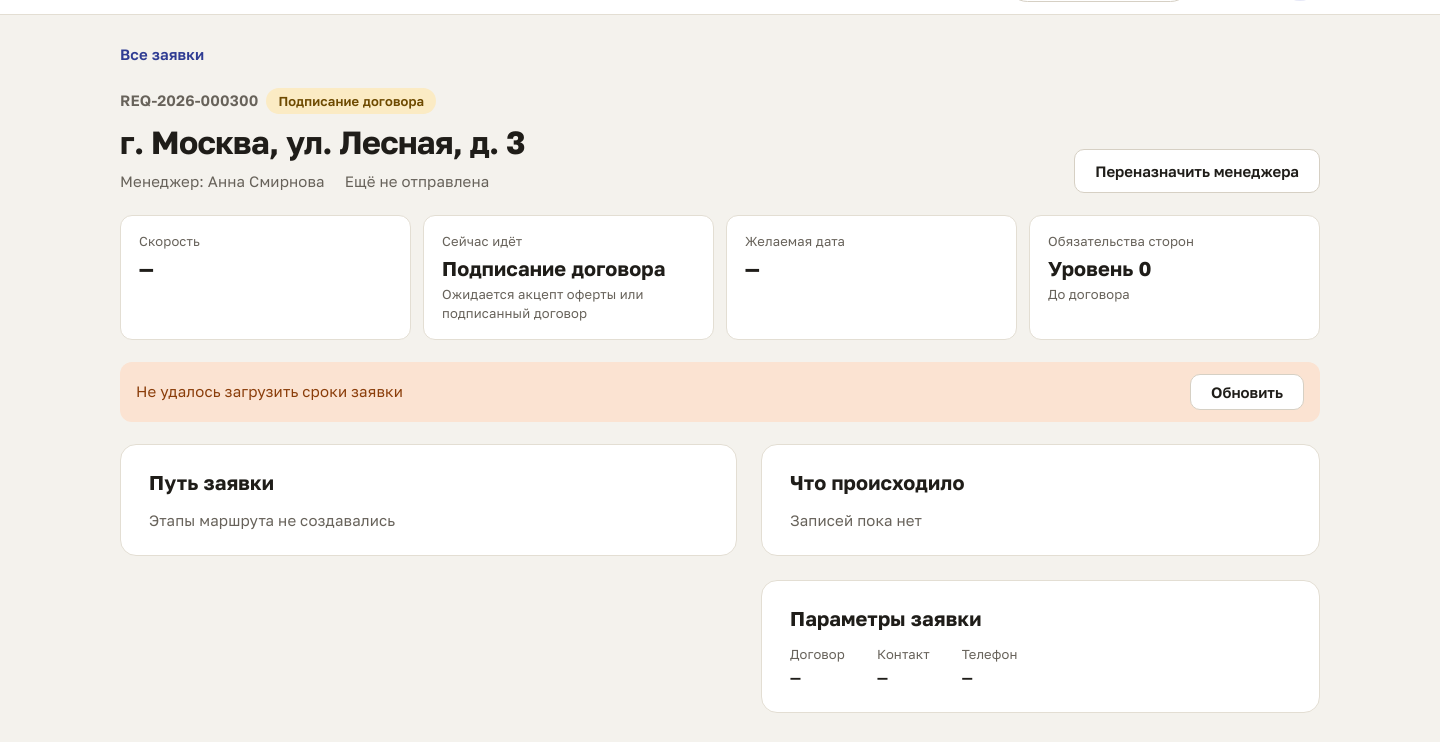
it: Блок «Сроки» в карточке › при сбое показывает понятный текст и кнопку «Обновить», карточка остаётся
Expected: the message with test id "request-card-sla-error" shows "Не удалось загрузить сроки заявки", [136,382,403,400]
Expected: the heading "г. Москва, ул. Лесная, д. 3" is shown, [120,124,525,160]
Click the button "Обновить" at {"x": 1247, "y": 392}, box [1190,374,1304,410]
(page scrolled)
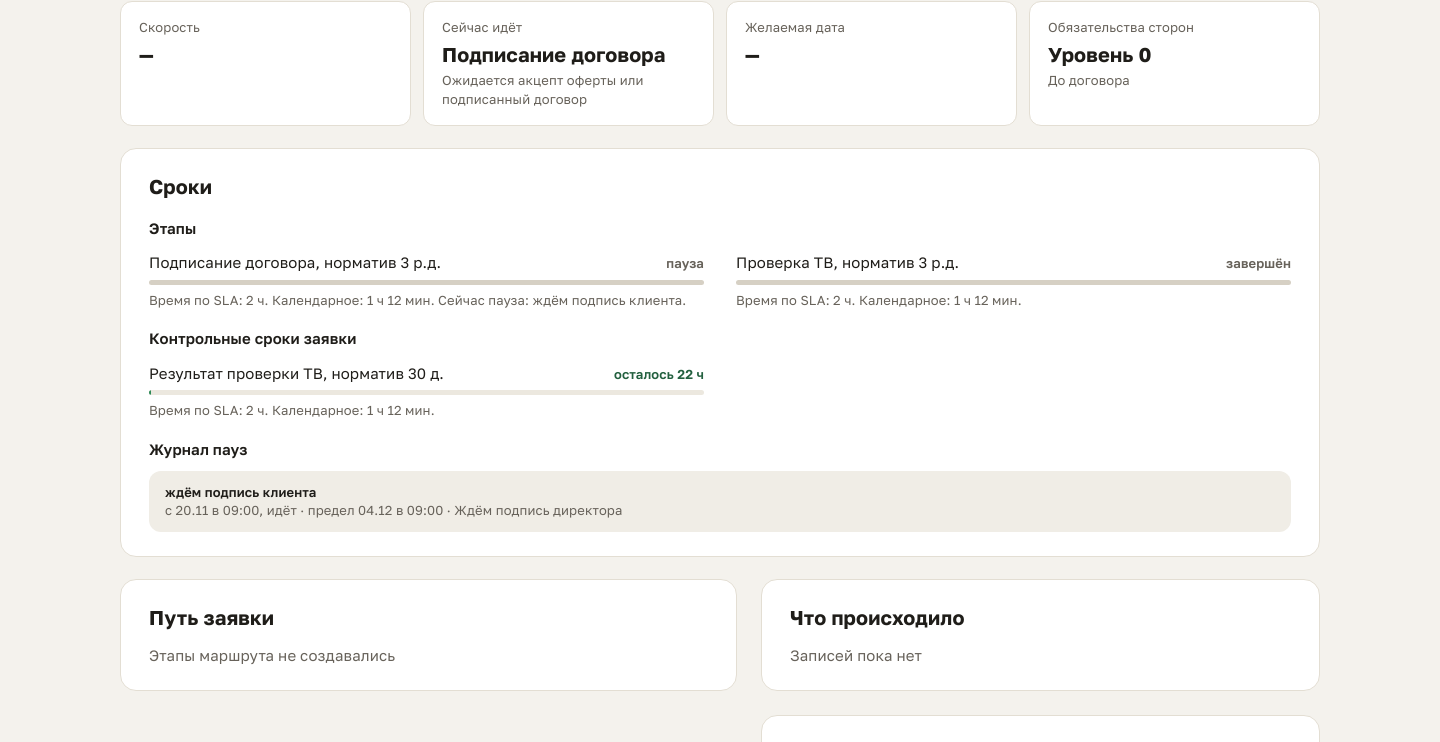
Now the element with test id "request-card-sla" is shown, box [120,148,1320,557]
